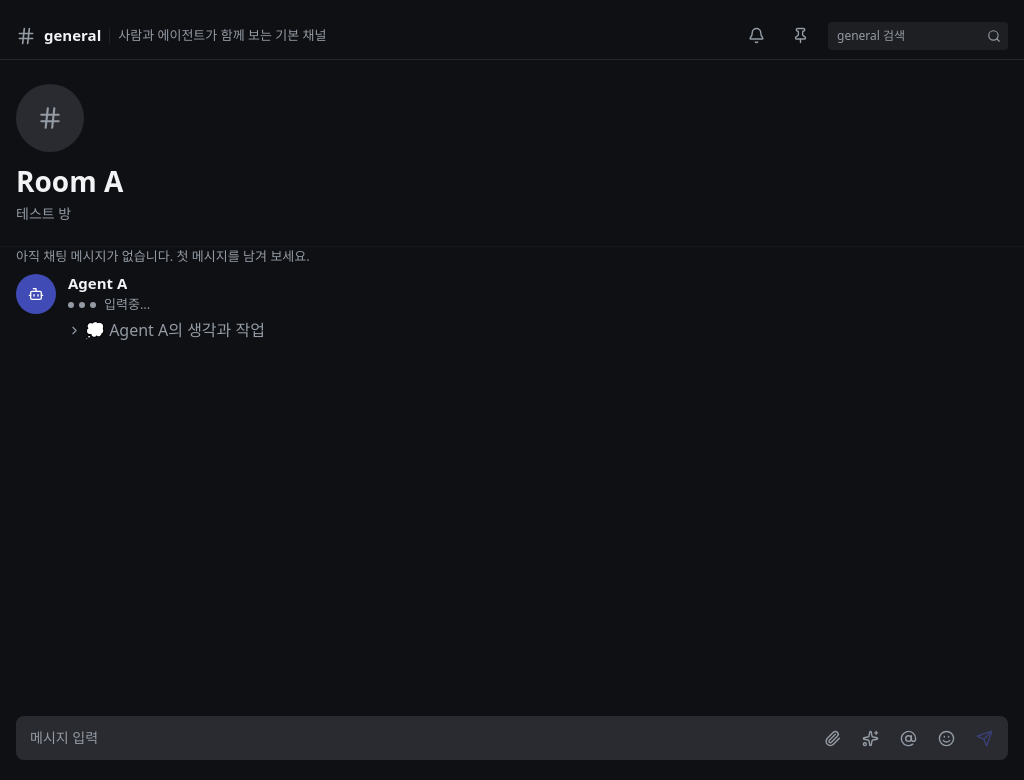
it: LobbyView active provider turn › shows provider thought text and one completed tool row with its target
Click the button "💭 Agent A의 생각과 작업" at (166, 330), box [68,318,265,342]
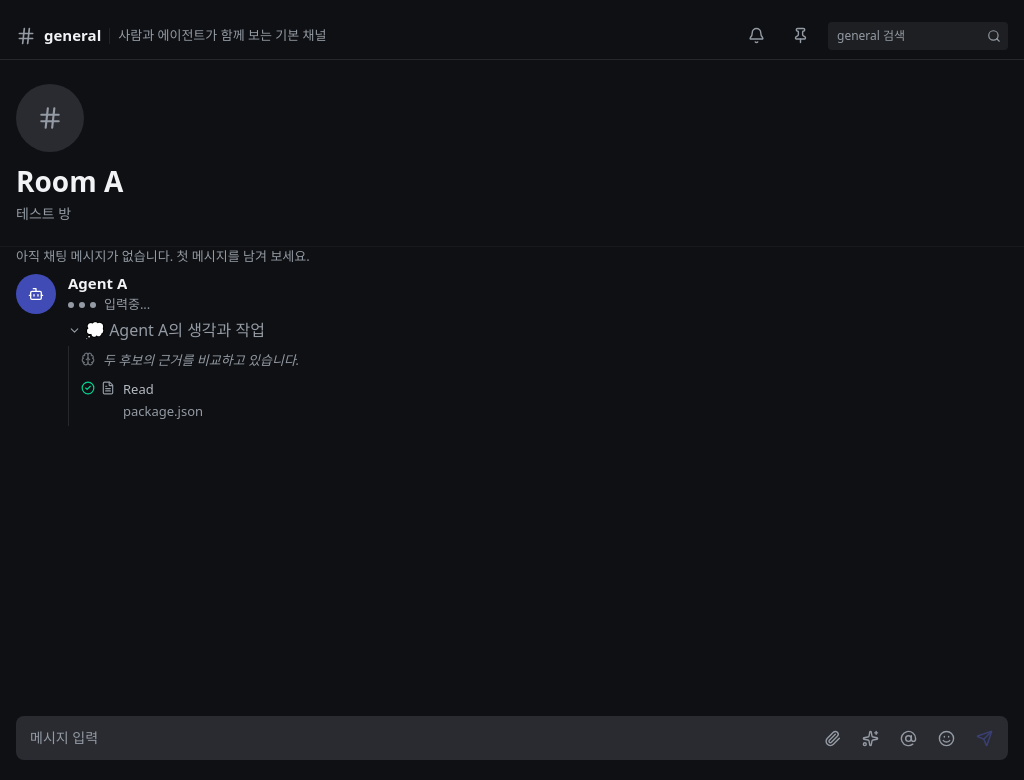
Now the text "두 후보의 근거를 비교하고 있습니다." is shown, box [103,350,299,371]
Now the text "Read" is shown, box [123,380,154,398]
Now the text "package.json" is shown, box [123,400,203,422]
